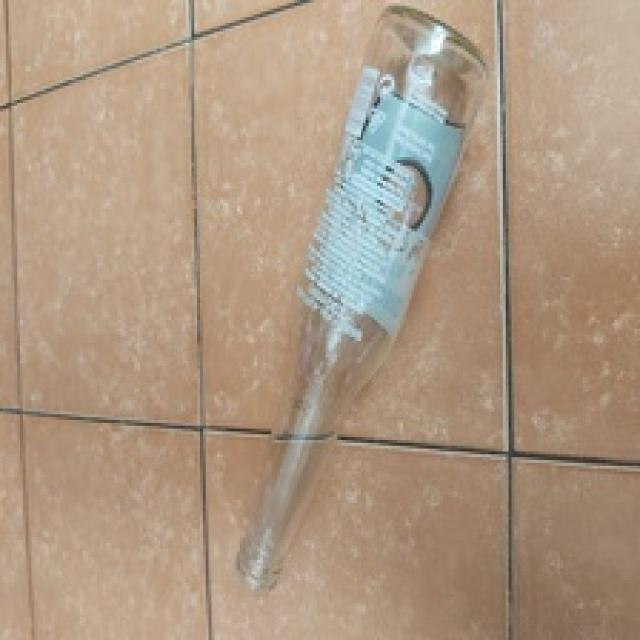Glass: (235, 6, 490, 594)
